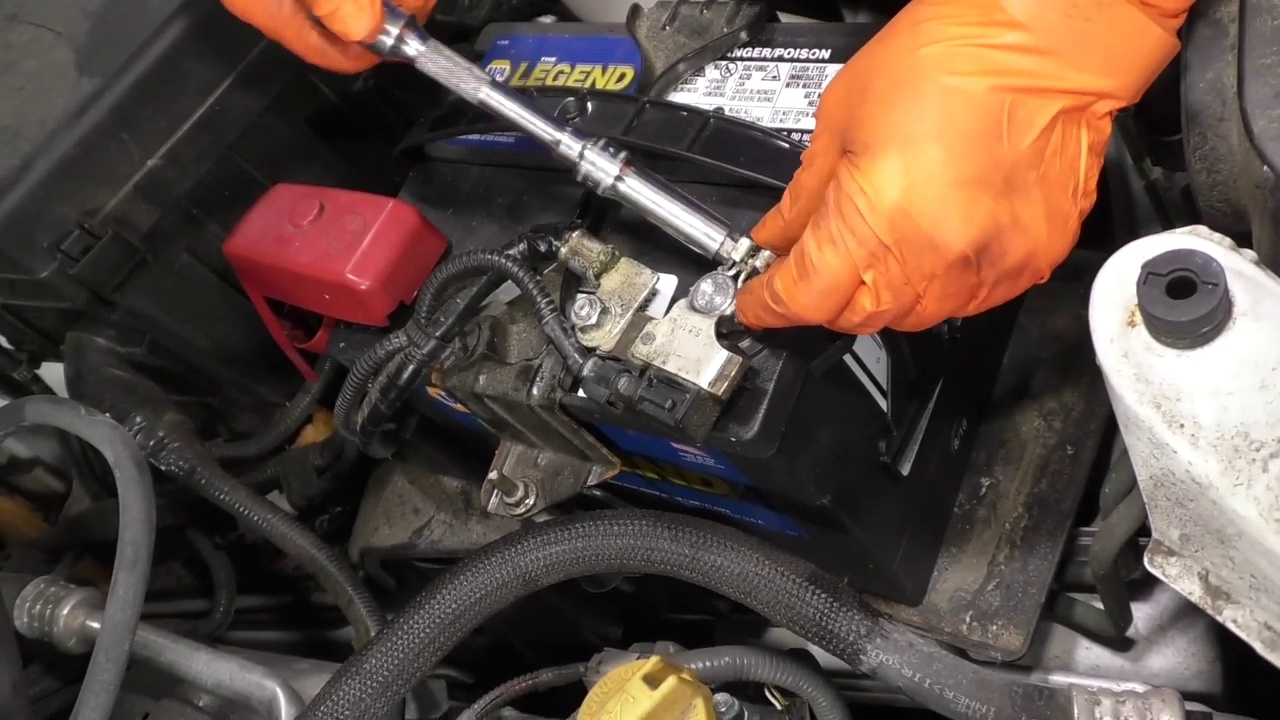battery: (303, 22, 873, 460)
neg_connected: (629, 253, 769, 441)
neg_touched: (647, 181, 876, 390)
pos_connected: (201, 180, 449, 396)
